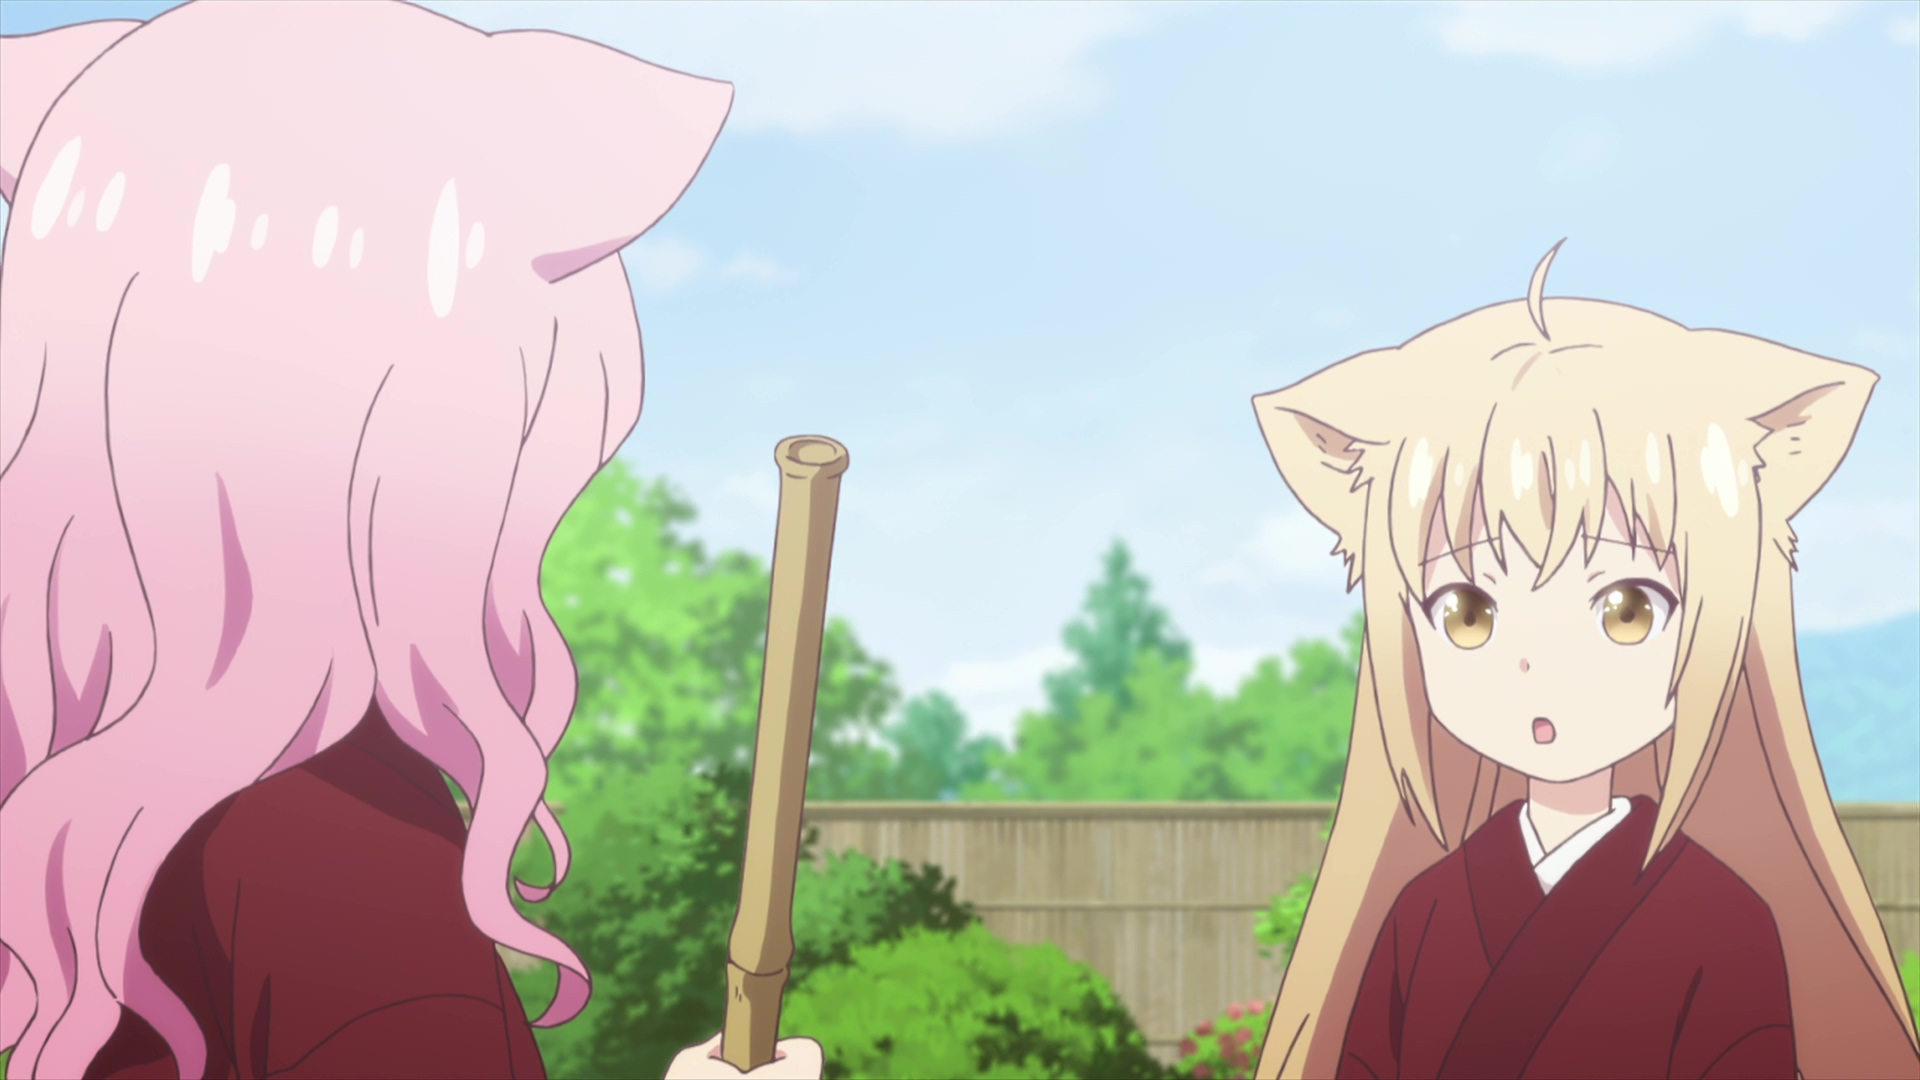柚: (1251, 241, 1920, 1080)
莲: (1, 1, 848, 1080)
